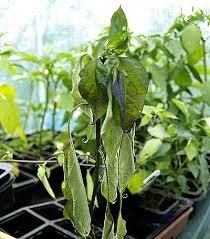Diseased_Leaves: (61, 145, 89, 233), (103, 133, 128, 201), (110, 69, 131, 122)
